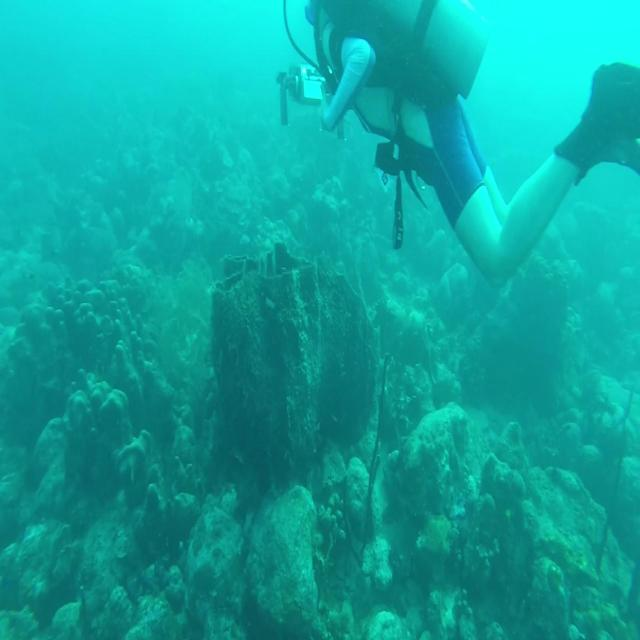human: (282, 1, 638, 288)
